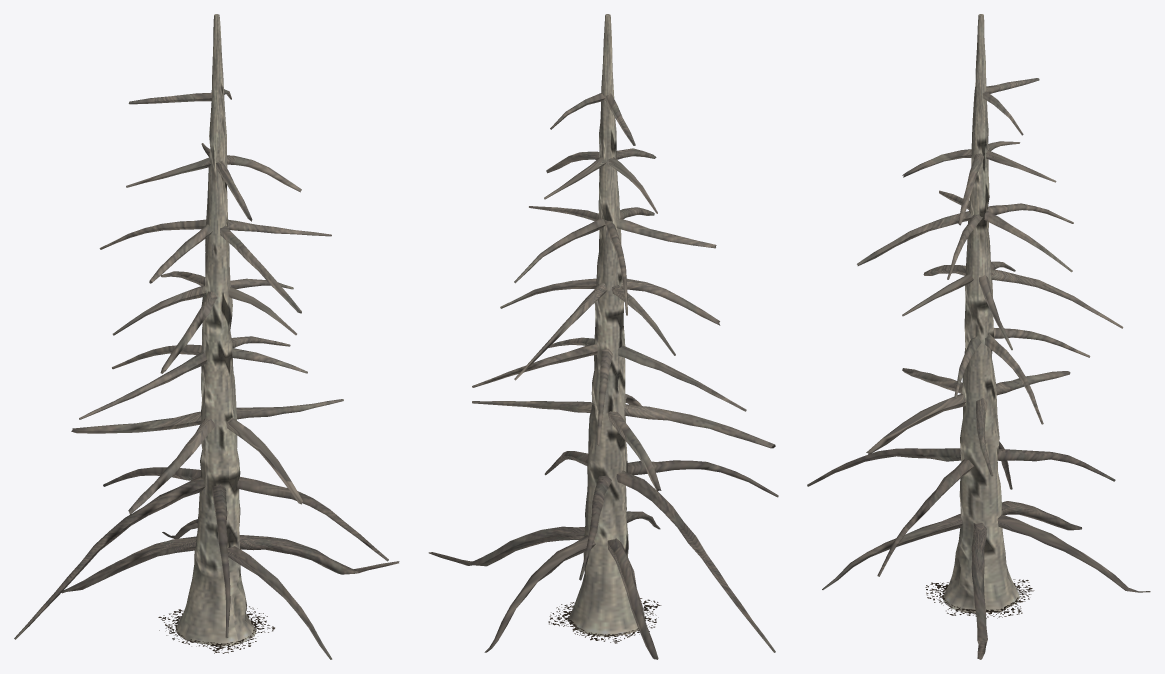
The model's file is tree_dead_spruce.glb.
3 renders of one model, left to right at view 1: azimuth 30°, elevation 25°; view 2: azimuth 150°, elevation 25°; view 3: azimuth 270°, elevation 25°, orthographic. The views are drawn at different scales.
Parts seen in each view (by area): view 1: tree_dead_spruce; view 2: tree_dead_spruce; view 3: tree_dead_spruce.
Part boxes in pixels (<box>): tree_dead_spruce: <box>14,14,399,659</box>; tree_dead_spruce: <box>428,14,778,659</box>; tree_dead_spruce: <box>807,14,1150,659</box>.
Size of the model in its own units: 2.75 by 4.37 by 2.34.
2 materials, 2 textured.
